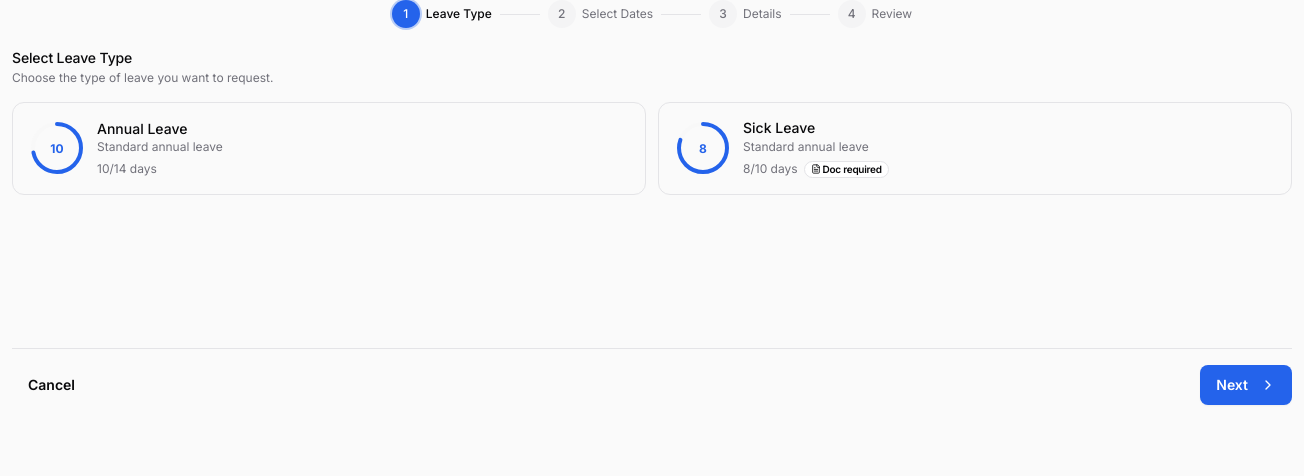
Test: LeaveRequestWizard › Step 1: Leave Type Selection › prevents advancing without selecting a type
The image size is (1304, 476).
Click the button "Next": (1246, 385) [1200,365,1292,405]
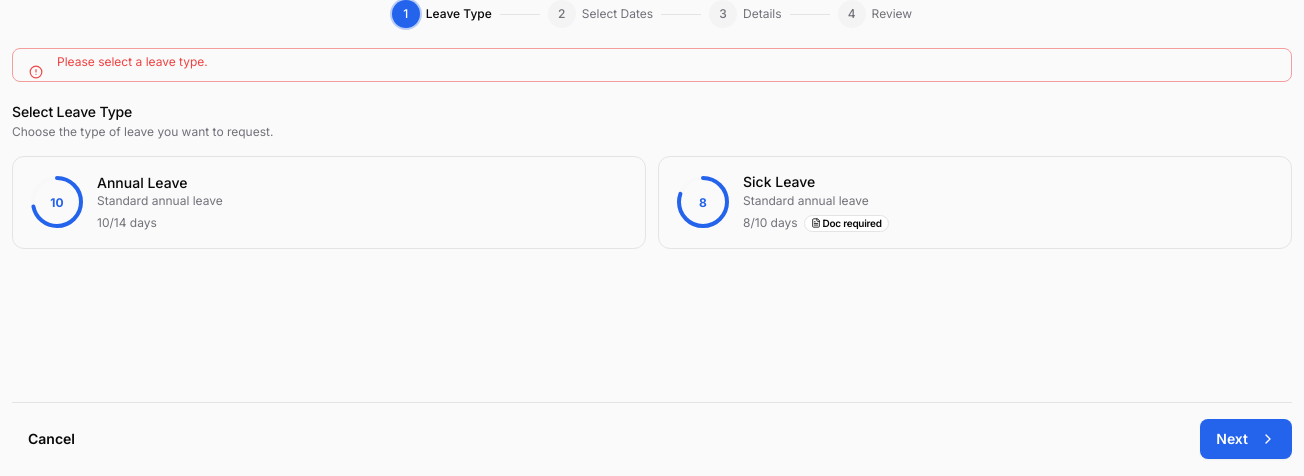
Expected: the heading "Select Leave Type" is shown, [12,103,132,120]
Result: the text "Please select a leave type." is shown at [57,54,208,69]
